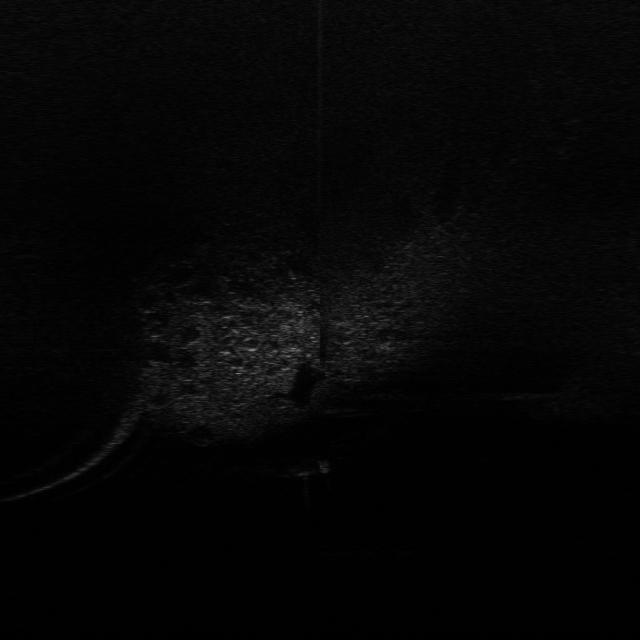cube: (286, 463, 316, 484)
cylinder: (317, 453, 334, 477)
